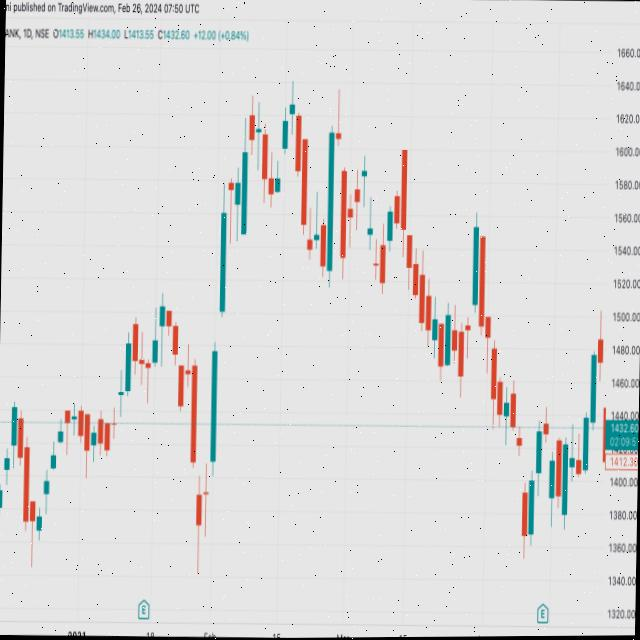Gap Down: (332, 88, 352, 277), (512, 421, 532, 569), (540, 405, 558, 520)
Gap Up: (203, 183, 236, 493), (271, 107, 289, 206)
